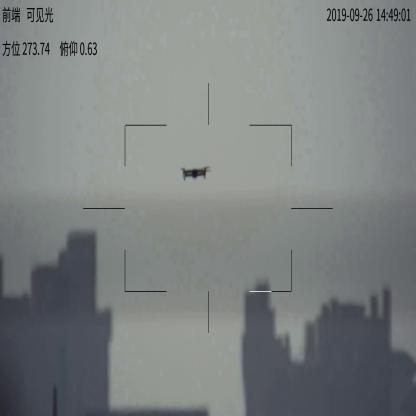uav: (176, 165, 212, 181)
